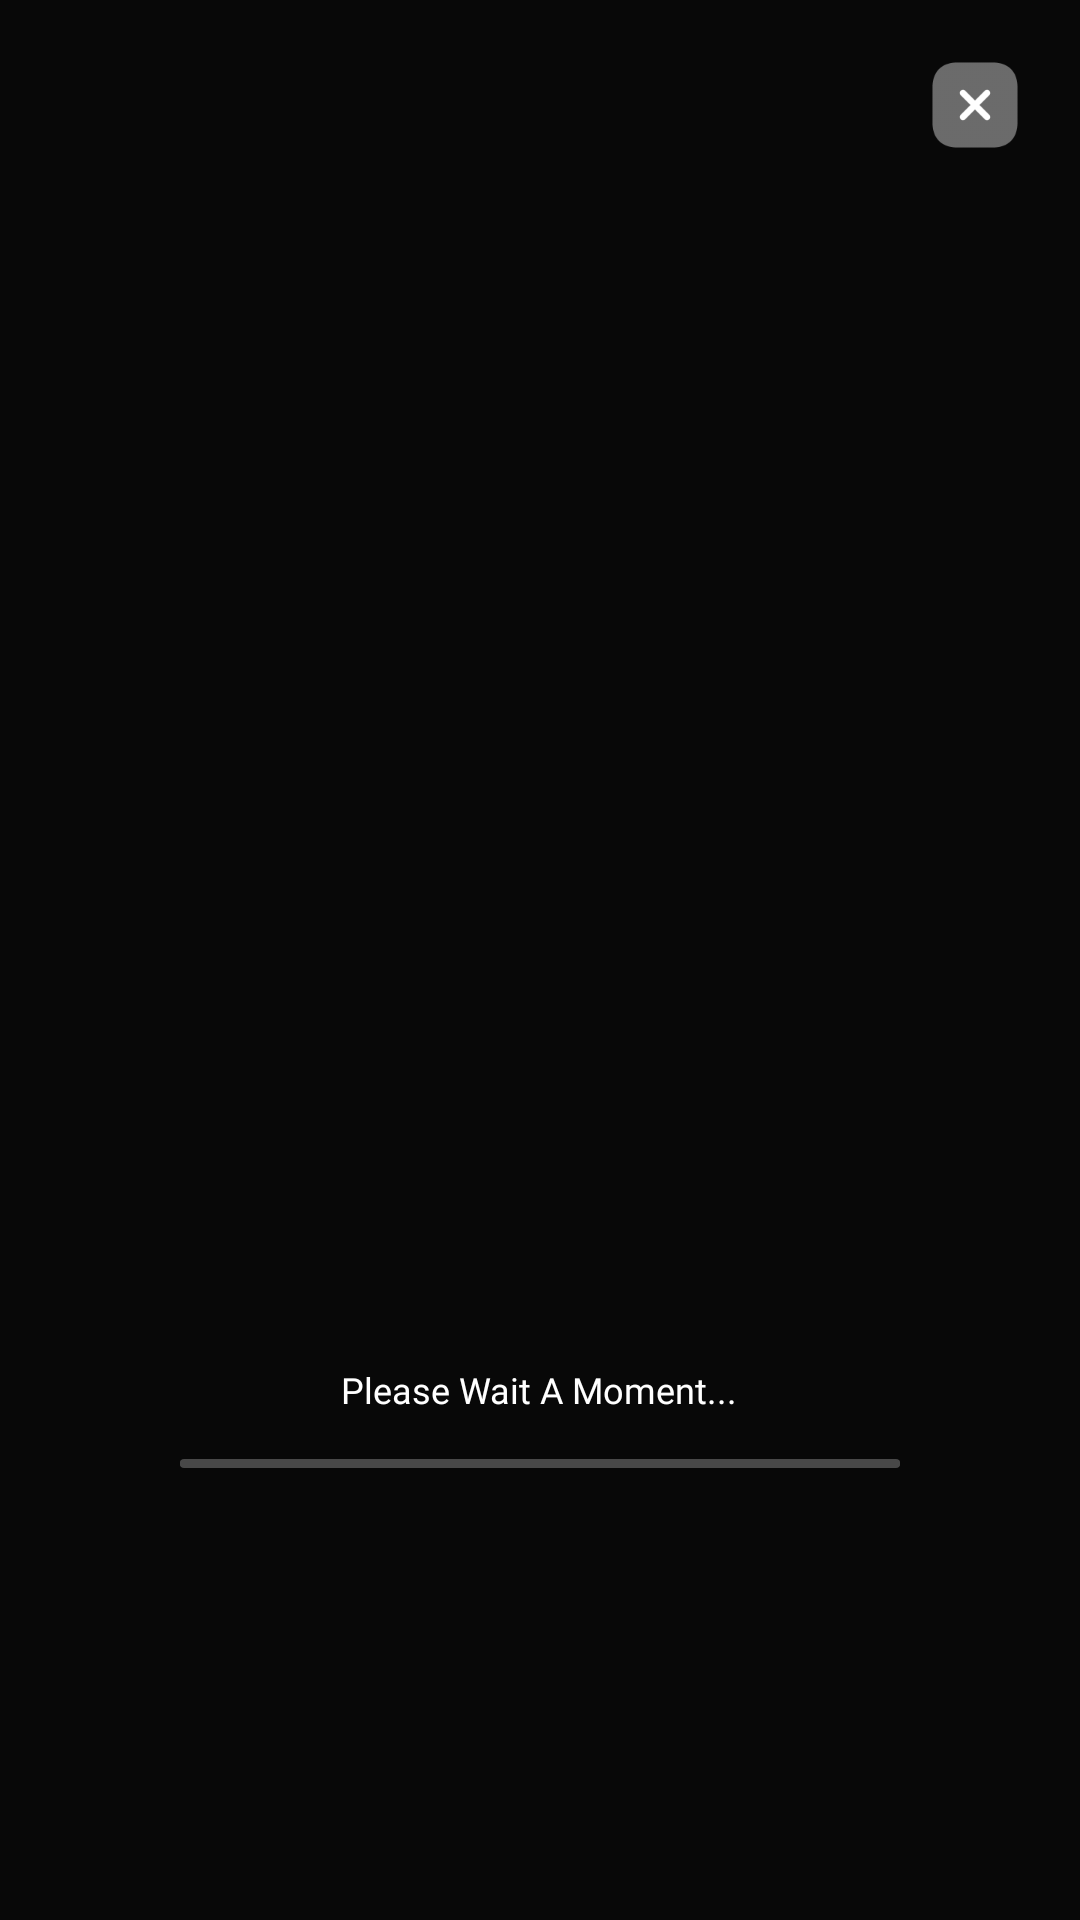

Icon bounding boxes for this 1080*1920 phone screenshot, format (x1, y1, x2, y2):
close: (932, 62, 1018, 148)
